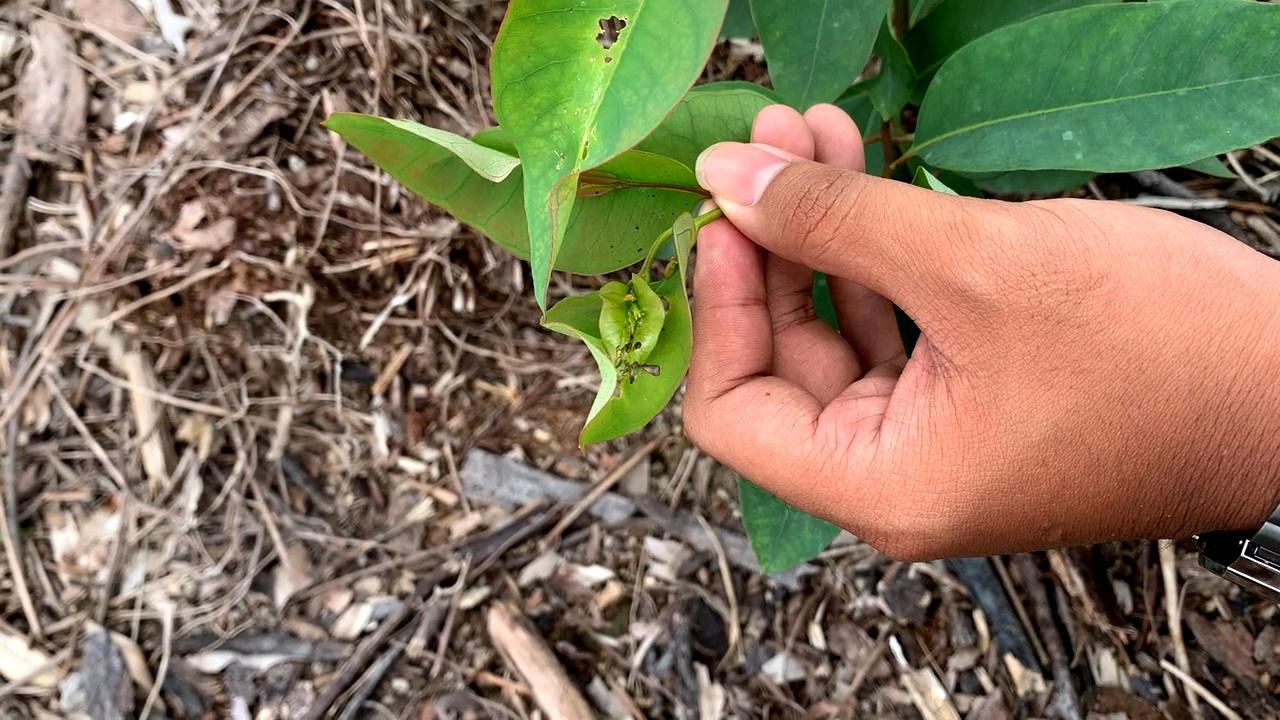Leaf Roller - Leaf: (591, 280, 667, 402)
